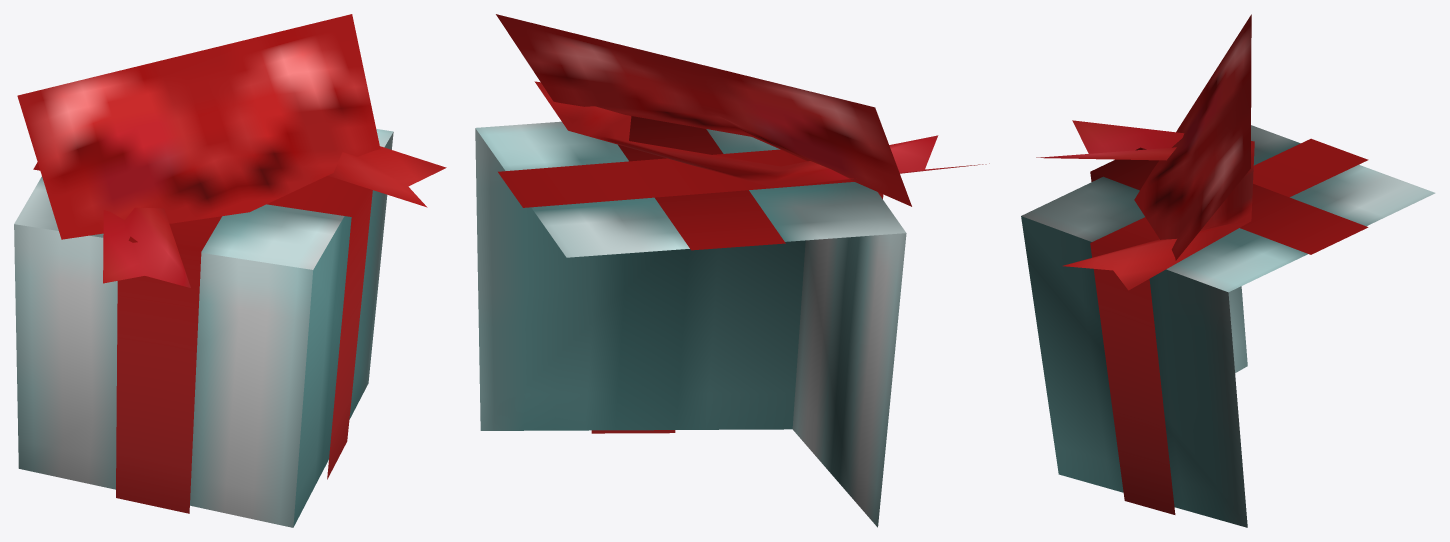
File: fg_present_out.dae
3 views of the same model, side by side, from view 1: azimuth 30°, elevation 25°; view 2: azimuth 150°, elevation 25°; view 3: azimuth 270°, elevation 25° (orthographic). The views are drawn at different scales.
Parts seen in each view (by area): view 1: fg_present_out; view 2: fg_present_out; view 3: fg_present_out.
Boxes of the visible parts, x1,y1,x2,y2 form: fg_present_out: (14,14,446,527); fg_present_out: (475,14,989,527); fg_present_out: (1021,14,1435,527).
Size of the model in its own units: 16.19 by 16.3 by 16.13.
1 material, 1 textured.
